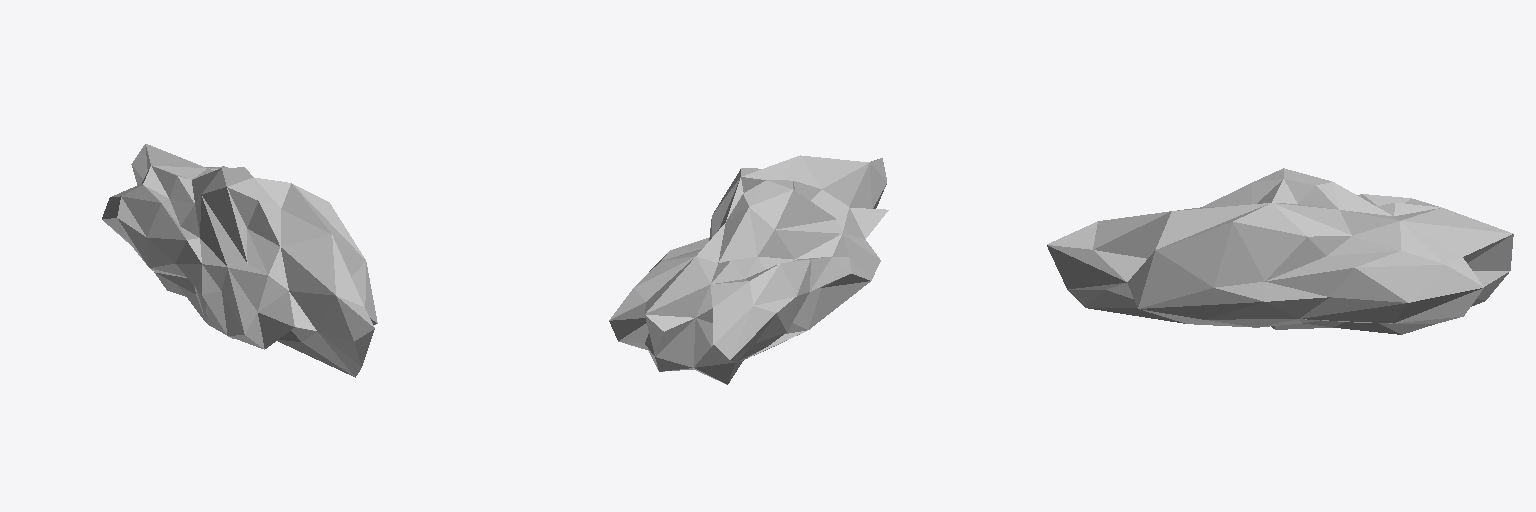
Rendered from Nuvem.obj.
3 views of the same model, side by side, from view 1: azimuth 30°, elevation 25°; view 2: azimuth 150°, elevation 25°; view 3: azimuth 270°, elevation 25° (orthographic).
Visible parts, largest first — view 1: Icosphere; view 2: Icosphere; view 3: Icosphere.
Part boxes in pixels (x1,y1,x2,y2): Icosphere: (102, 144, 377, 377); Icosphere: (609, 155, 888, 384); Icosphere: (1047, 168, 1513, 334).
Bounding box in the file's own units: 2.78 × 2.78 × 7.63.